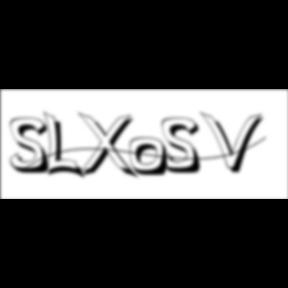L: (43, 110, 87, 182)
S: (10, 117, 56, 176), (161, 117, 207, 176)
V: (200, 110, 268, 176)
X: (77, 112, 141, 182)
o: (130, 137, 172, 179)
